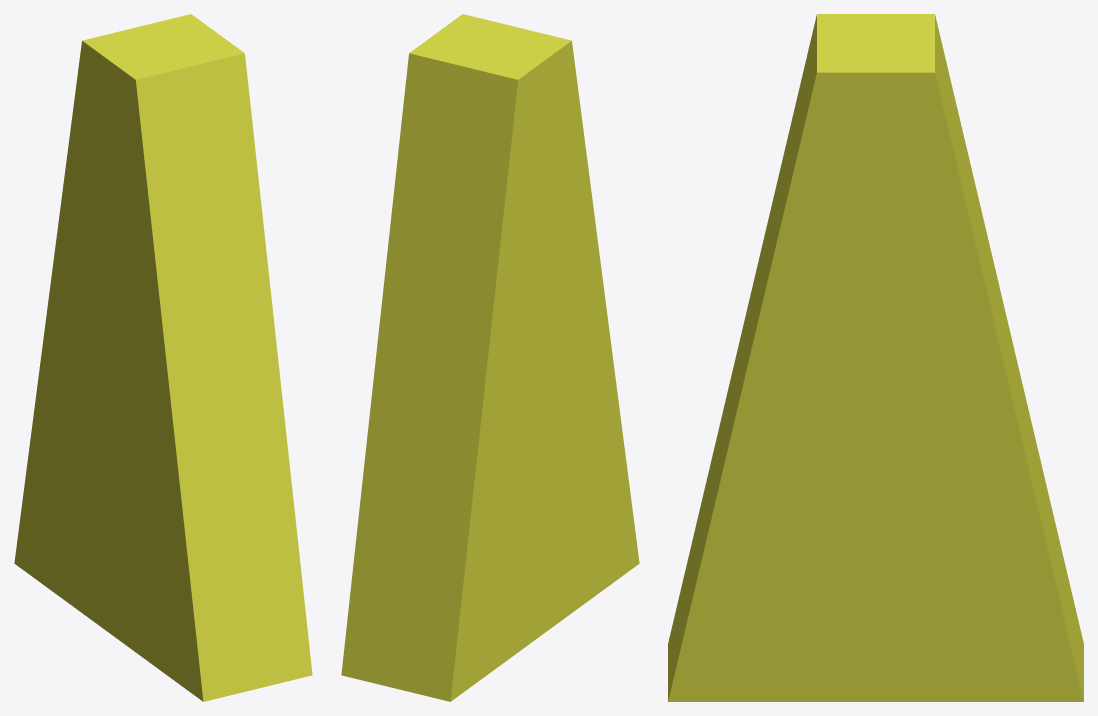
Rendered from transparencia_pieza3.fbx.
3 views of the same model, side by side, from view 1: azimuth 30°, elevation 25°; view 2: azimuth 150°, elevation 25°; view 3: azimuth 270°, elevation 25° (orthographic). The views are drawn at different scales.
Visible parts, largest first — view 1: Cylinder.013; view 2: Cylinder.013; view 3: Cylinder.013.
Boxes of the visible parts, box(x1,y1,x2,y2) form: Cylinder.013: box(14, 14, 312, 701); Cylinder.013: box(341, 14, 639, 701); Cylinder.013: box(668, 14, 1083, 701).
Bounding box in the file's own units: 100 × 501 × 300.
